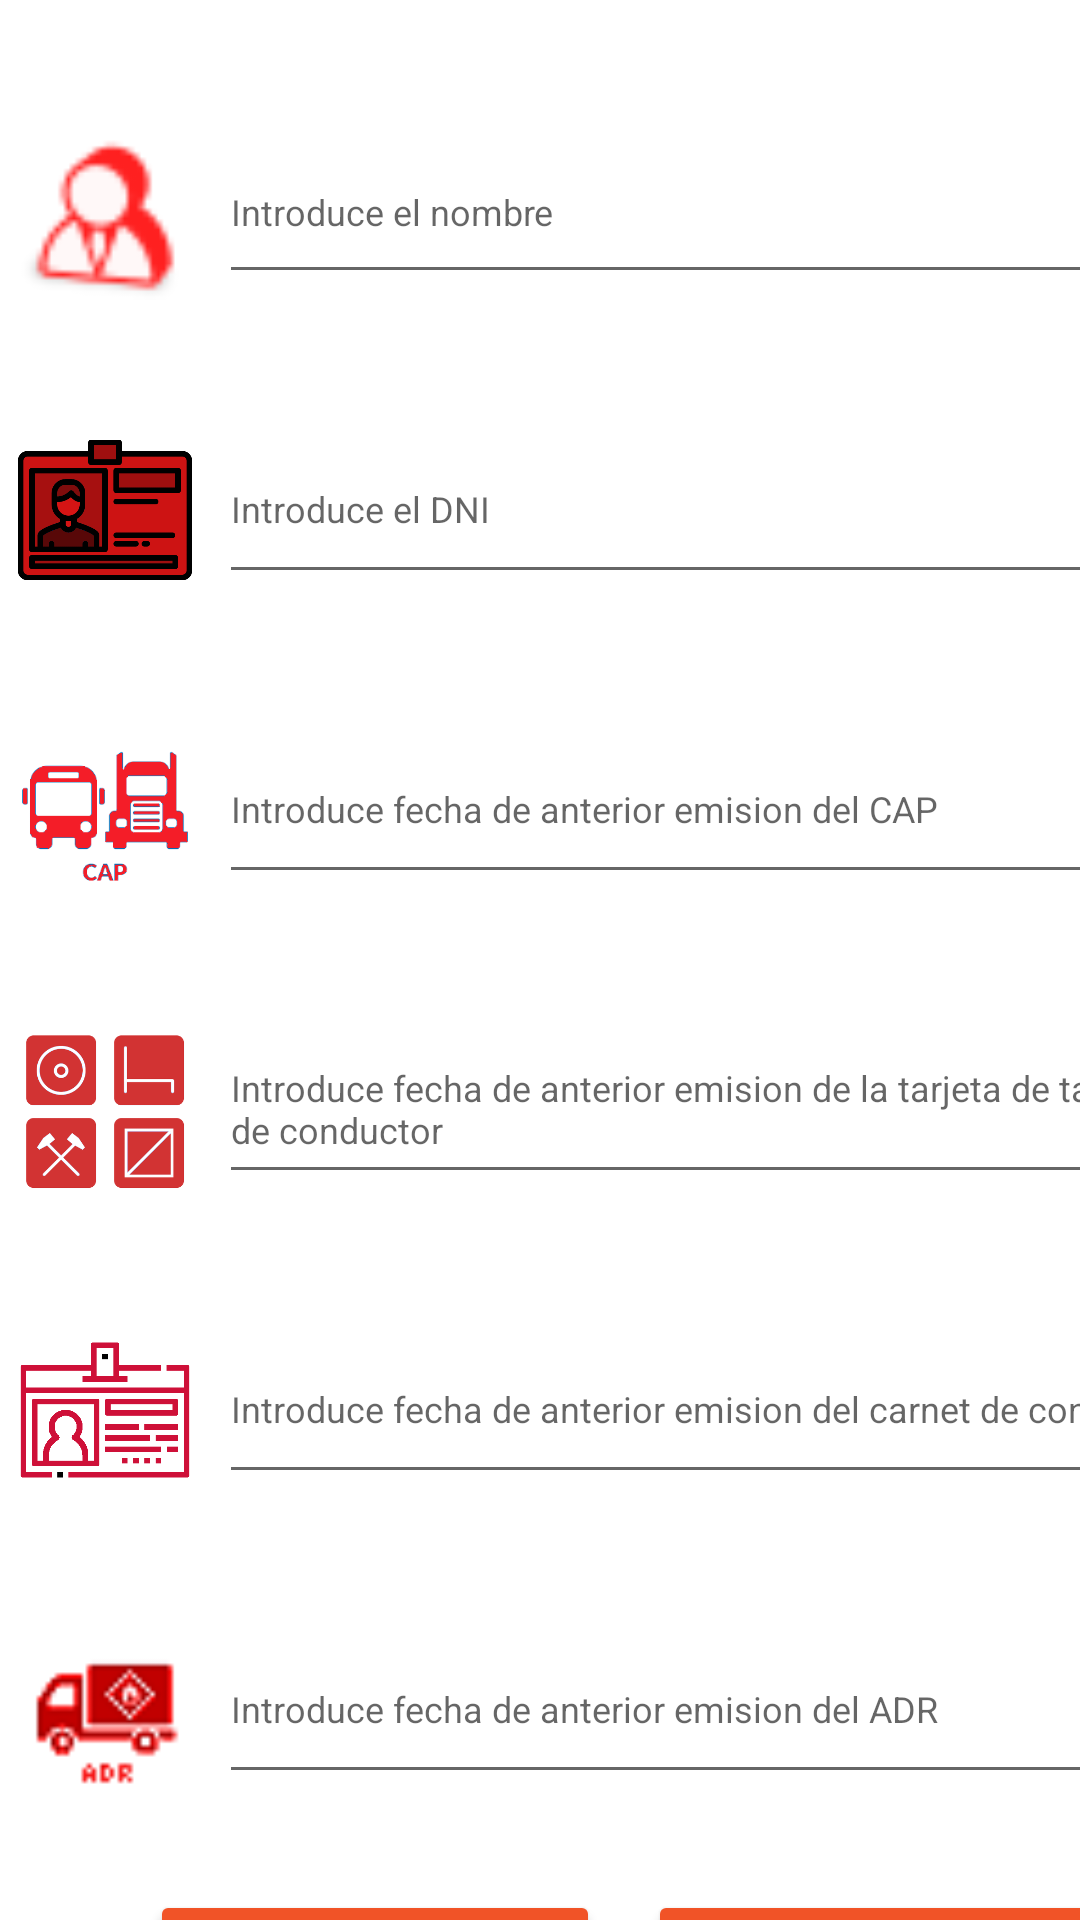

Icons on this 1080*1920 Android screen, each with its box as (x1, y1, x2, y2):
tacografored: (26, 1035, 184, 1188)
